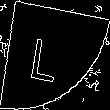L_N: (37, 27, 73, 83)
